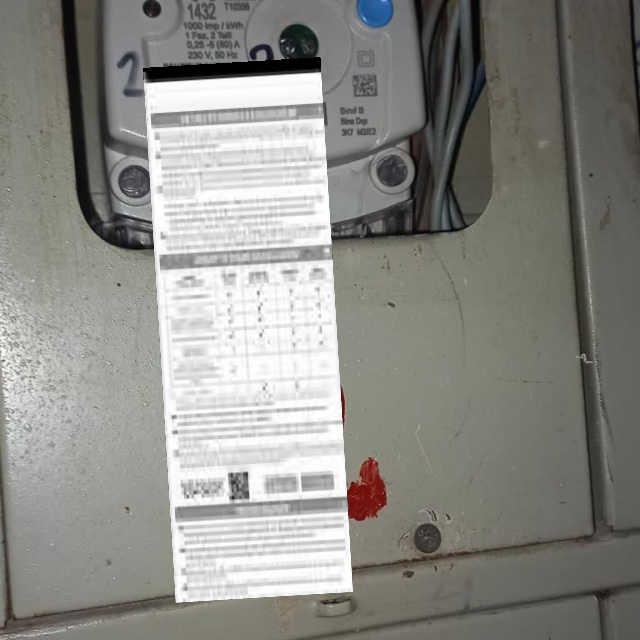electricity-bill: (143, 57, 353, 603)
